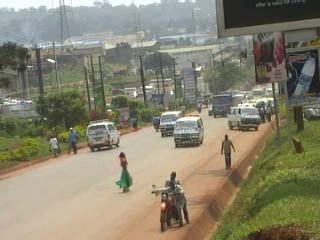Car: (205, 100, 212, 117)
Motorcycle: (147, 182, 191, 230), (152, 113, 160, 131), (195, 99, 204, 114)
